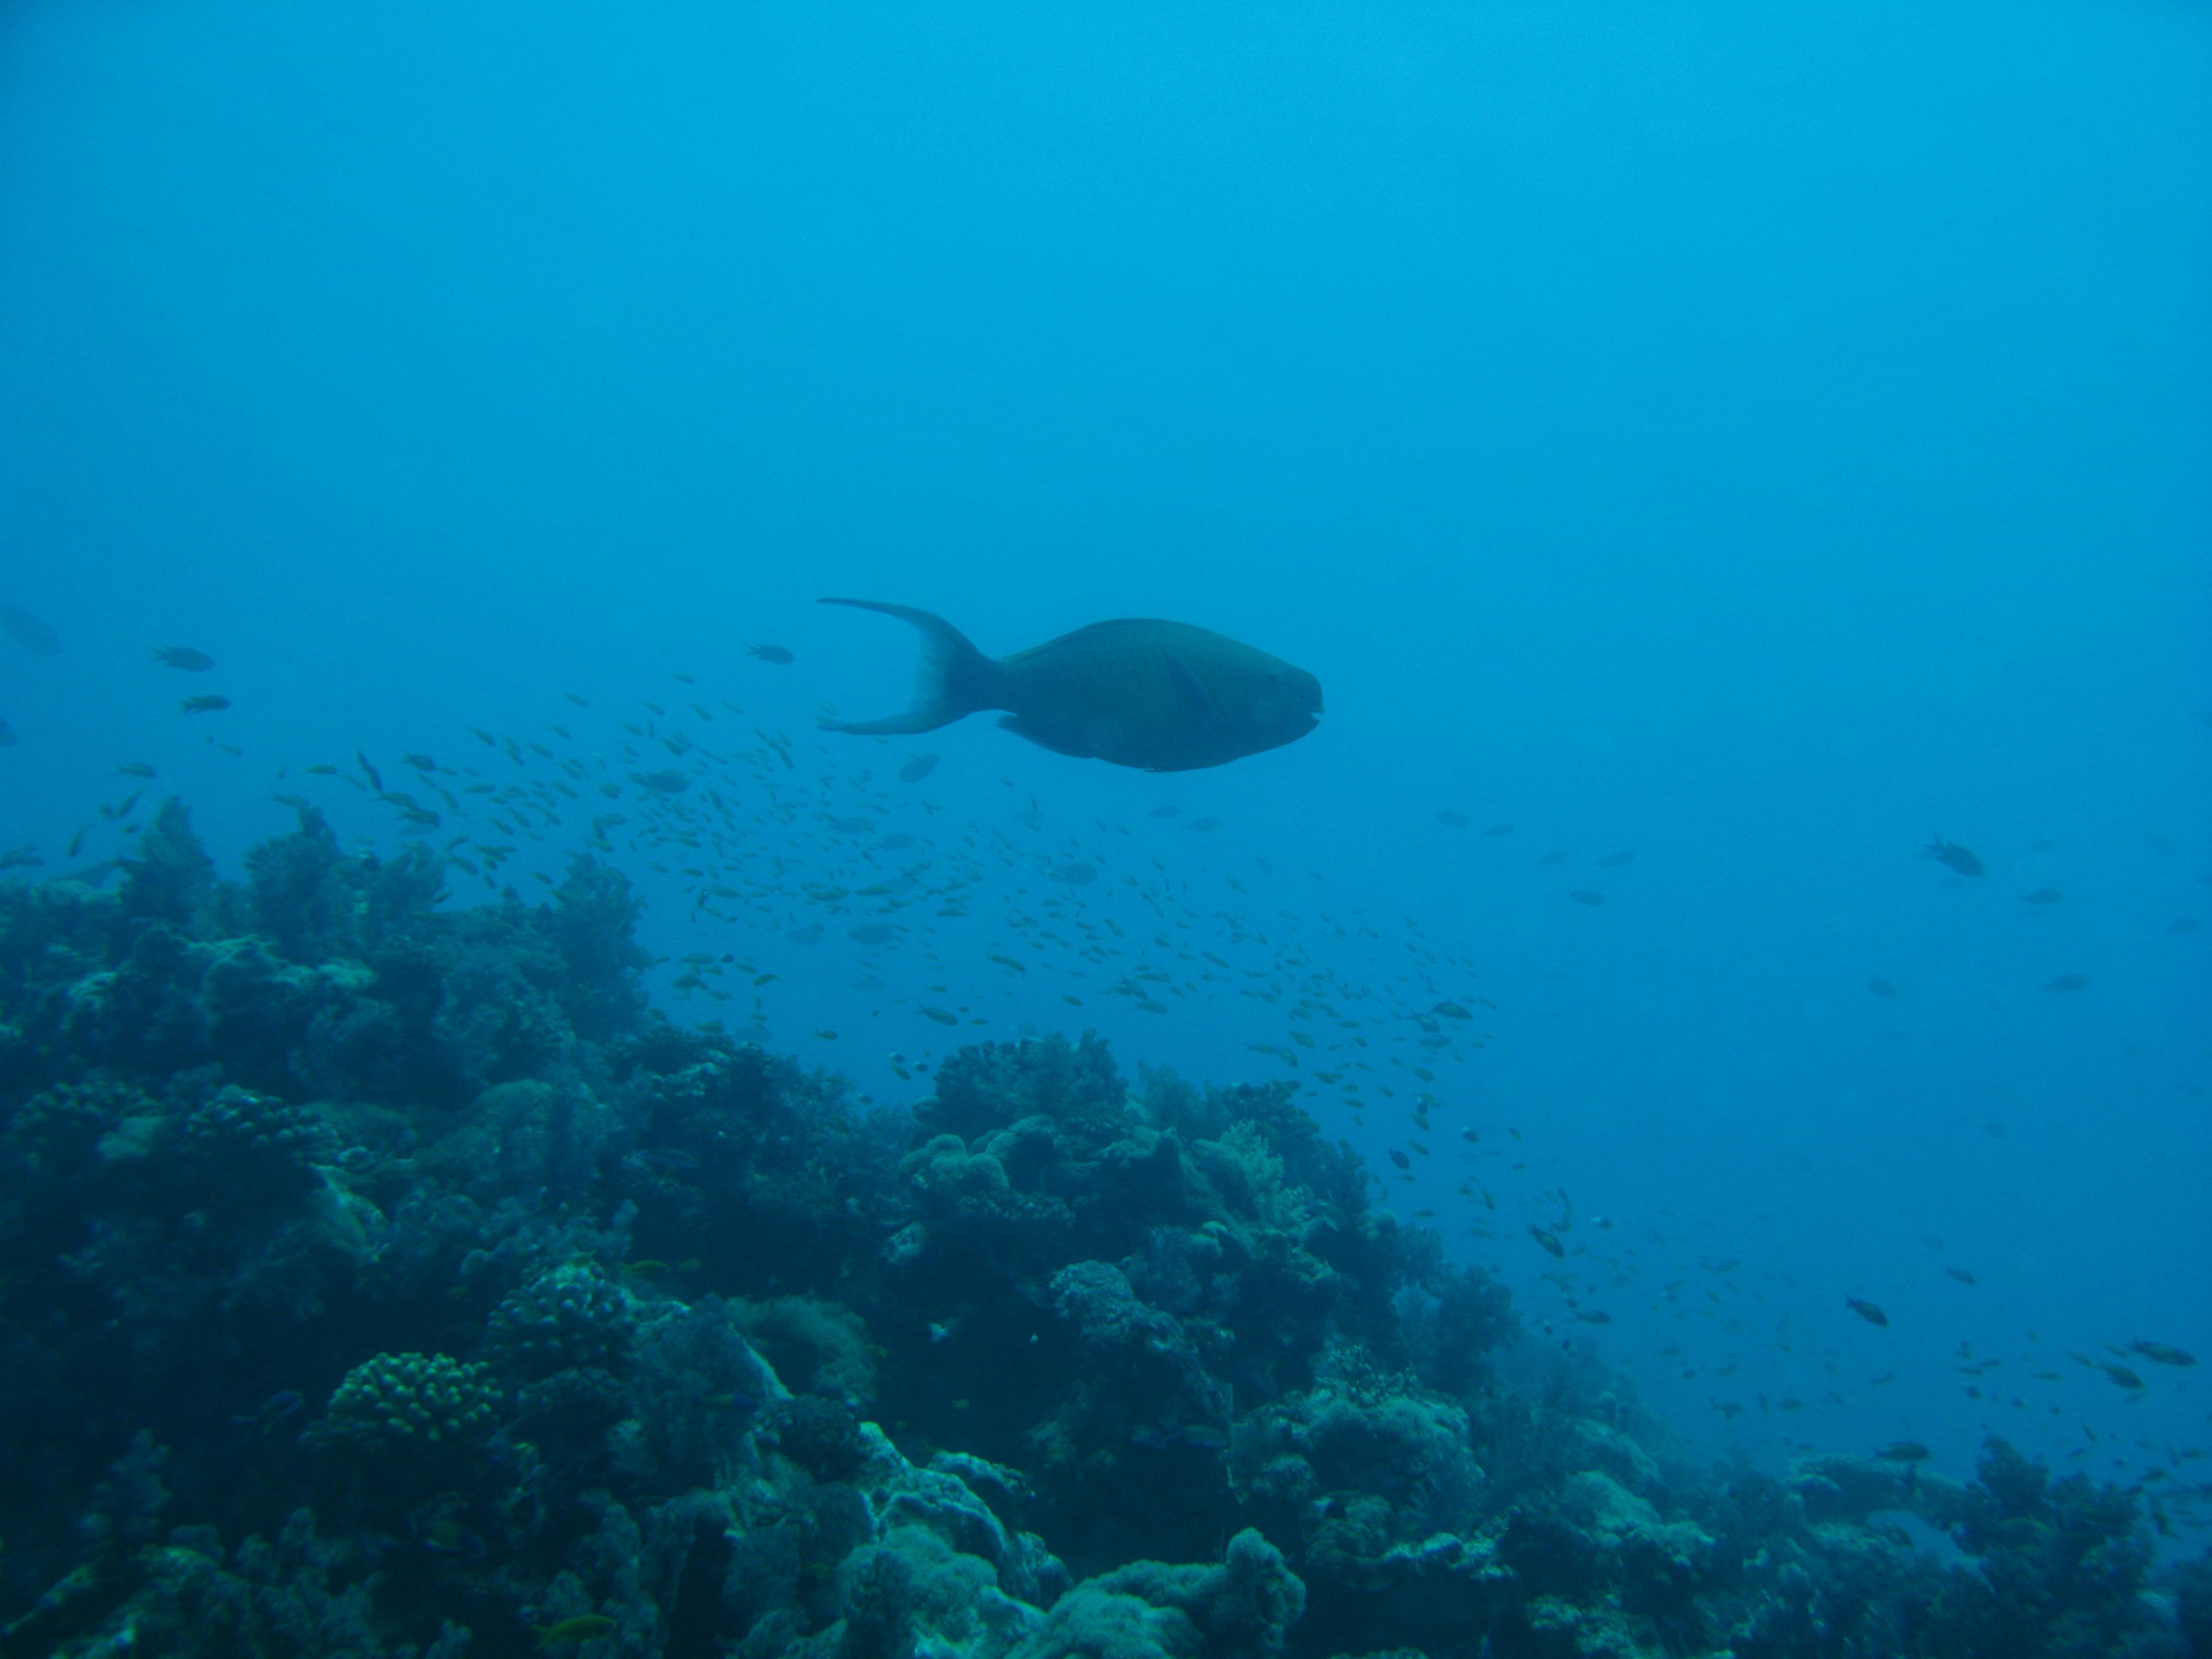Scarus rubroviolaceus: (817, 577, 1339, 791)
